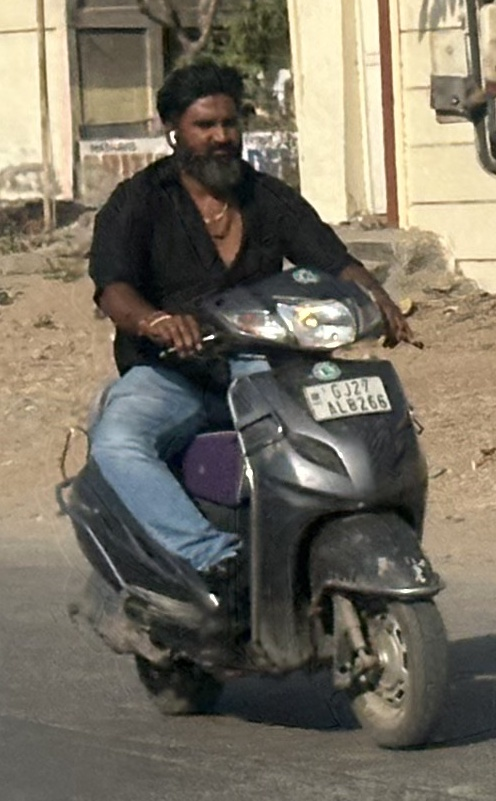BikeWithRider: (44, 52, 466, 752)
NoHelmet: (148, 54, 266, 205)
